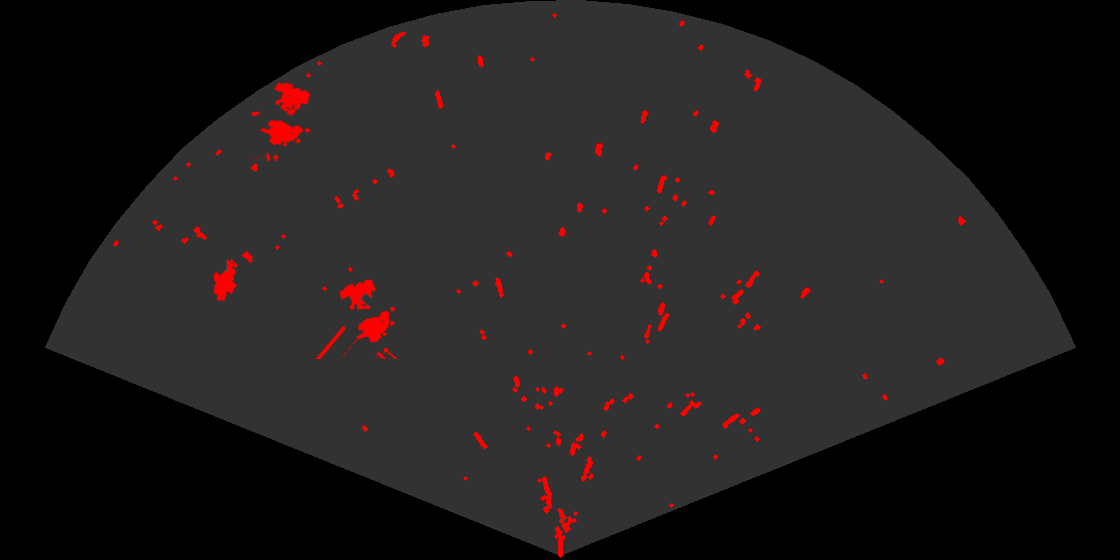AUV: (212, 258, 238, 303)
cage: (316, 278, 399, 359), (252, 81, 312, 161)
